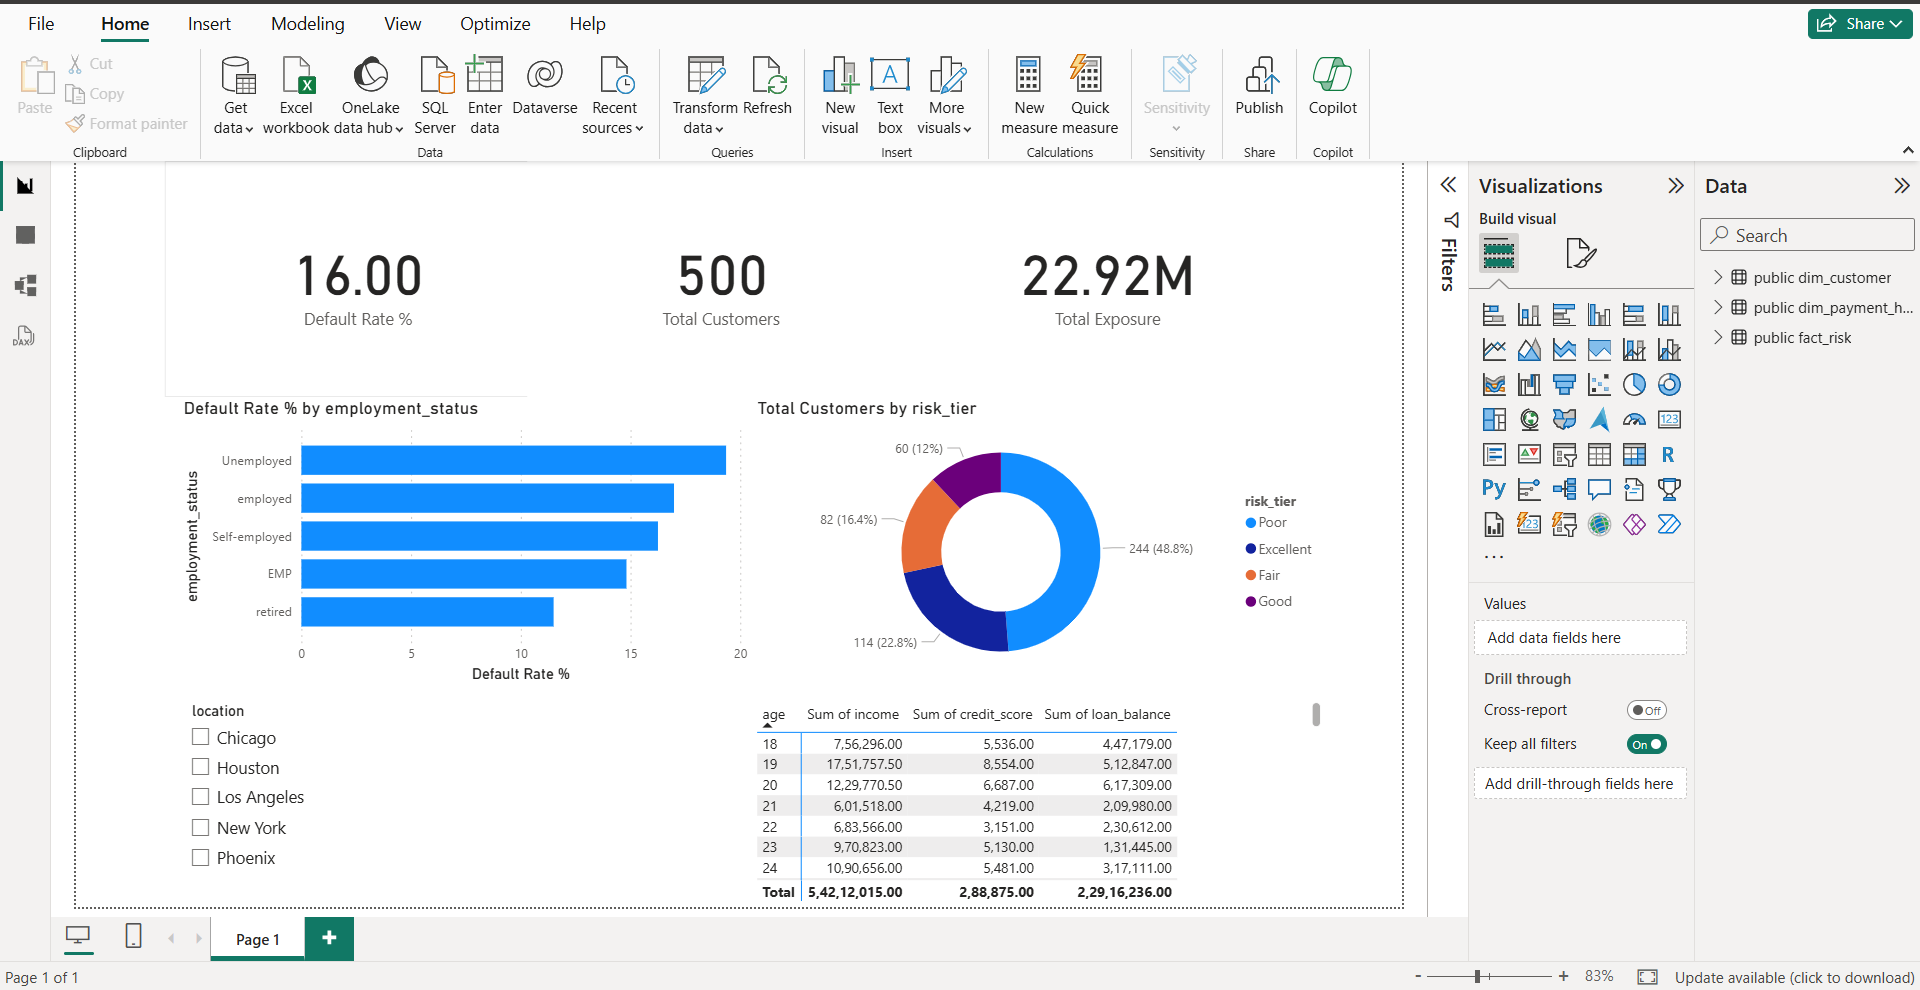

This screenshot's page, from the dashboard's own definition file:
{"tool":"powerbi","page":{"name":"Page 1","canvas":[1280,720],"ordinal":0},"visuals":[{"type":"card","fields":{"Values":["public fact_risk.Default Rate %"]},"box":[85.1,0,373.2,227.8],"z":0},{"type":"card","fields":{"Values":["public fact_risk.Total Customers"]},"box":[435,0,374.6,227.8],"z":1000},{"type":"card","fields":{"Values":["public fact_risk.Total Exposure"]},"box":[809.6,0,373.2,227.8],"z":2000},{"type":"clusteredBarChart","fields":{"Category":["public dim_customer.employment_status"],"Y":["public fact_risk.Default Rate %"]},"box":[98.8,227.8,554.4,279.9],"z":3000},{"type":"donutChart","fields":{"Category":["public fact_risk.risk_tier"],"Y":["public fact_risk.Total Customers"]},"box":[653.2,227.8,554.4,279.9],"z":4000},{"type":"slicer","fields":{"Values":["public dim_customer.location"]},"box":[99,518,554,202],"z":5000},{"type":"pivotTable","fields":{"Values":["Sum(public fact_risk.income)","Sum(public fact_risk.credit_score)","Sum(public fact_risk.loan_balance)"],"Rows":["public dim_customer.age"]},"box":[653,518,554,202],"z":6000}]}

Visuals, with their boxes on the page's 1280x720 design canvas (x1, y1, x2, y2). These are canvas units, not pixel positions in the 1920x990 screenshot, which may show the page scaled, cropped or inside an application window:
card - public fact_risk.Default Rate %: rect(85, 0, 458, 228)
card - public fact_risk.Total Customers: rect(435, 0, 810, 228)
card - public fact_risk.Total Exposure: rect(810, 0, 1183, 228)
clusteredBarChart - public dim_customer.employment_status x public fact_risk.Default Rate %: rect(99, 228, 653, 508)
donutChart - public fact_risk.risk_tier x public fact_risk.Total Customers: rect(653, 228, 1208, 508)
slicer - public dim_customer.location: rect(99, 518, 653, 720)
pivotTable - Sum(public fact_risk.income) x Sum(public fact_risk.credit_score): rect(653, 518, 1207, 720)
